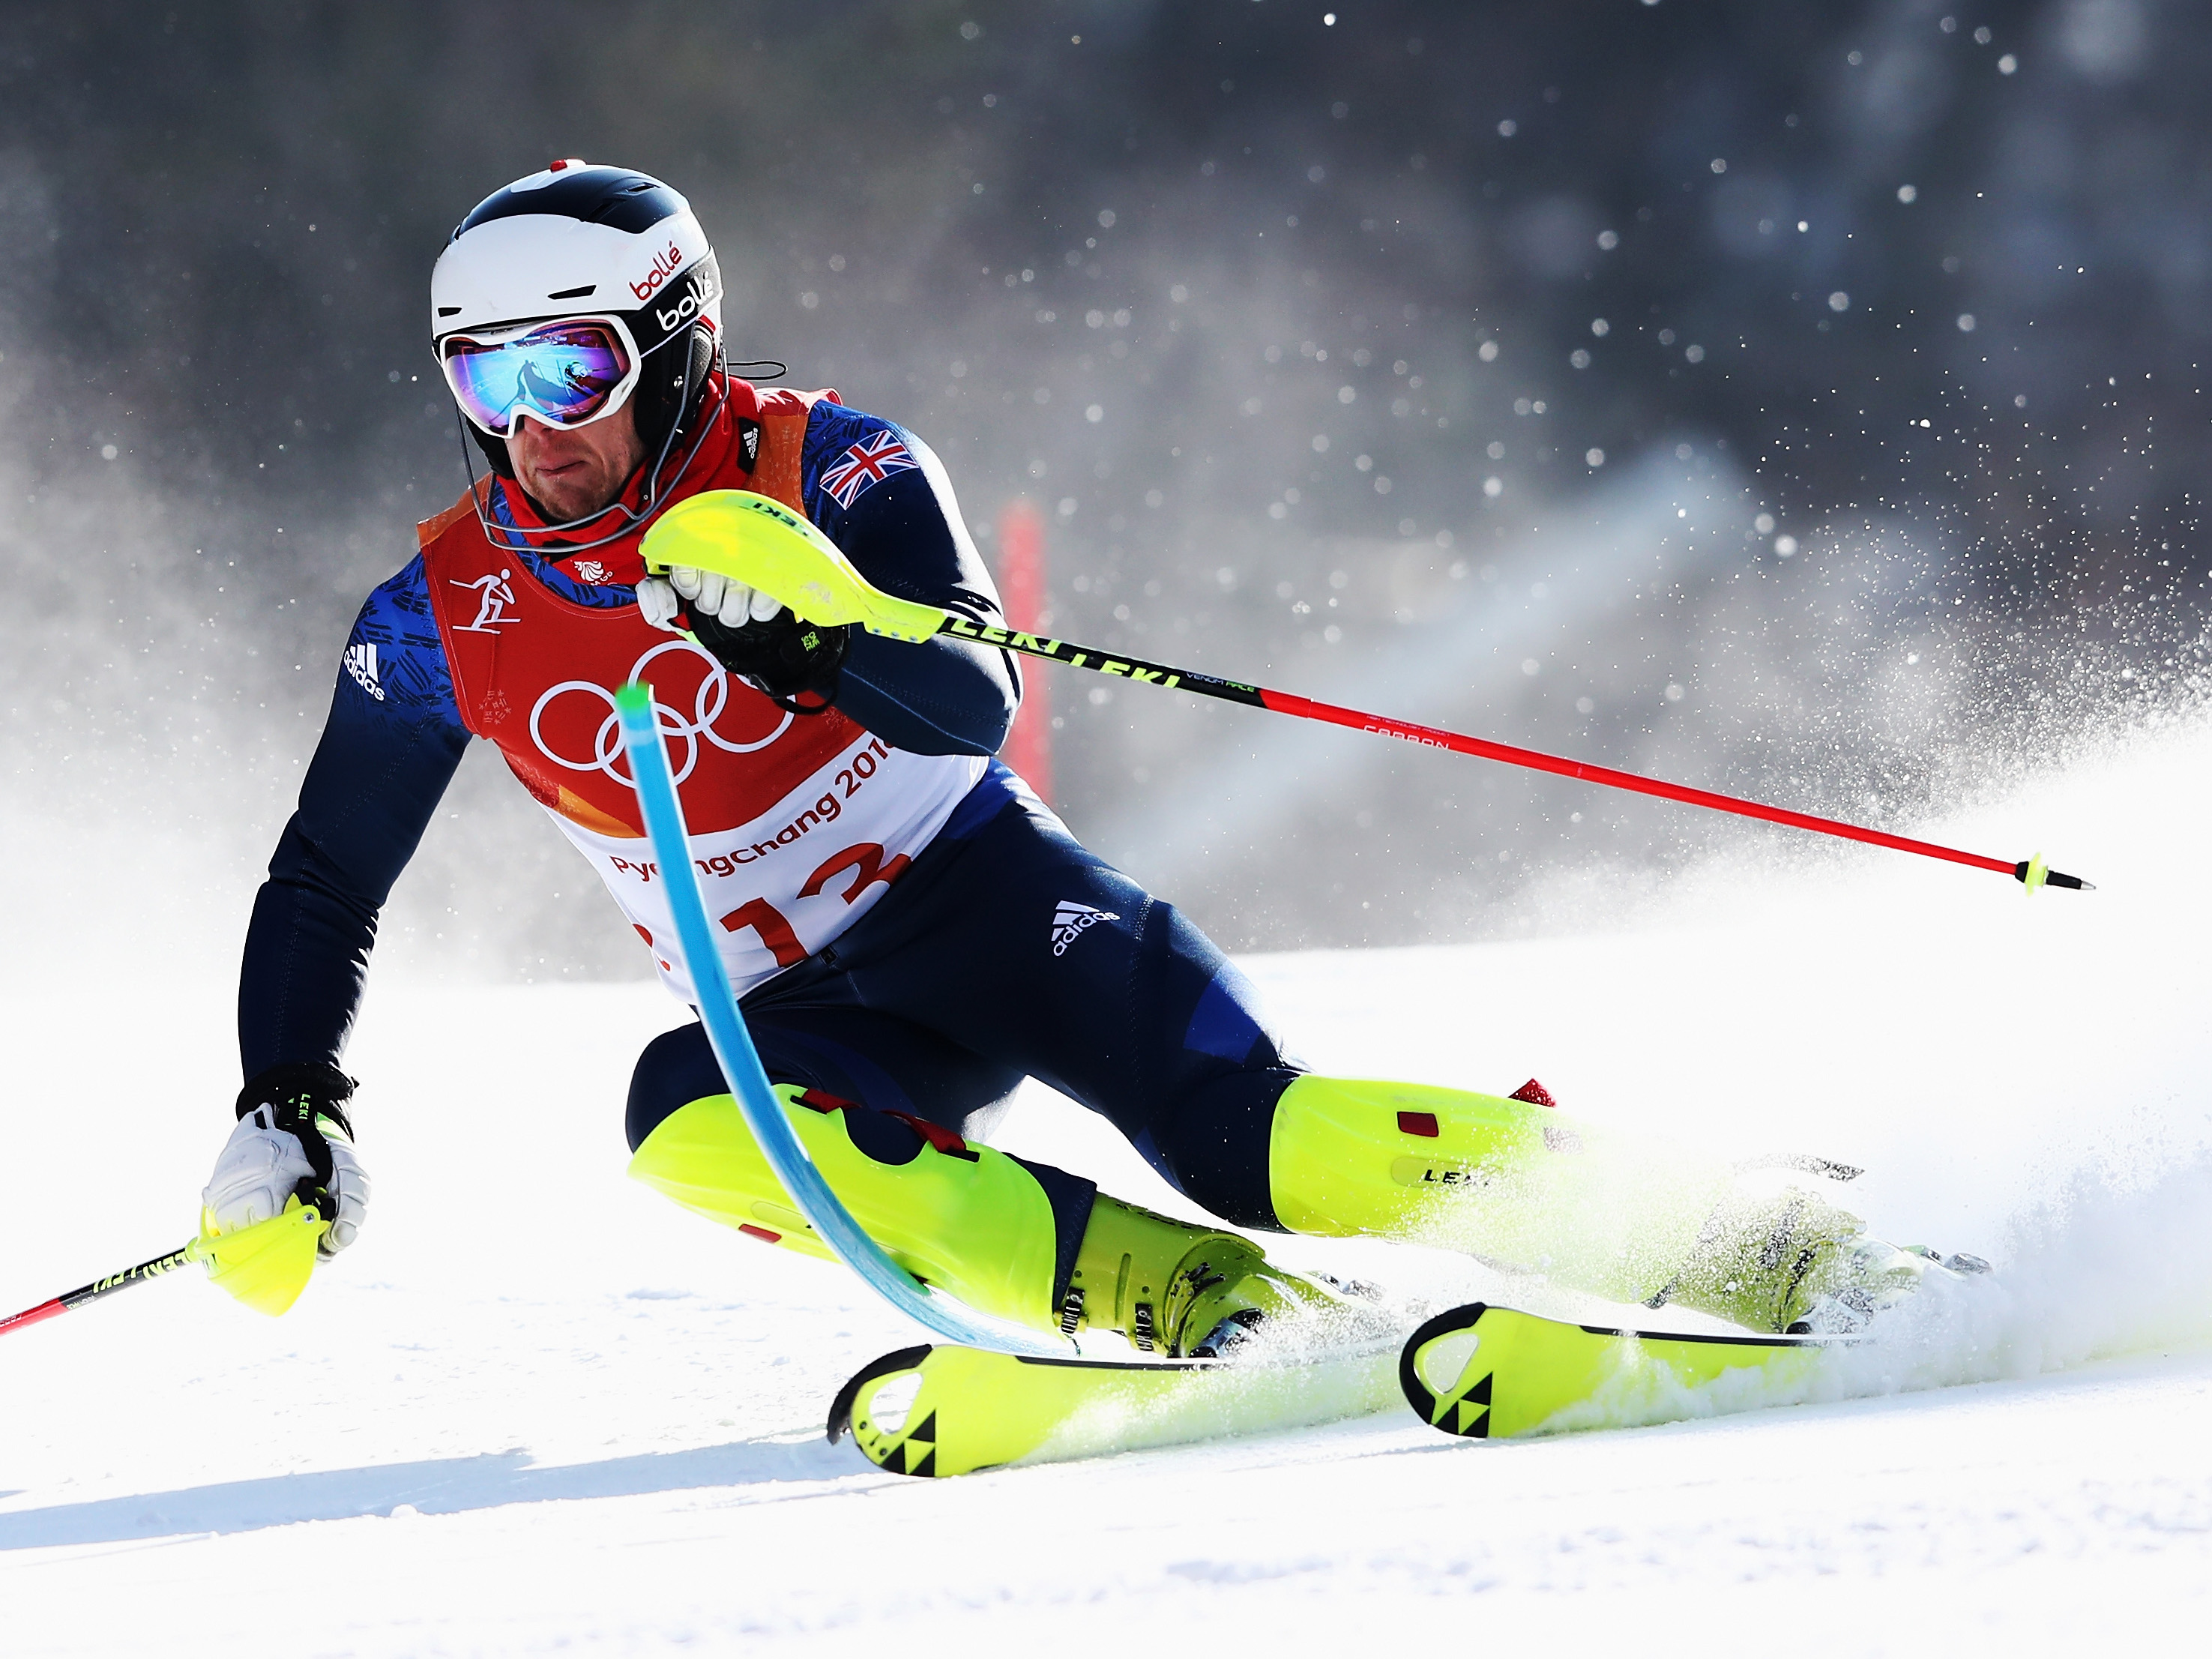skier: (139, 138, 2135, 1492)
